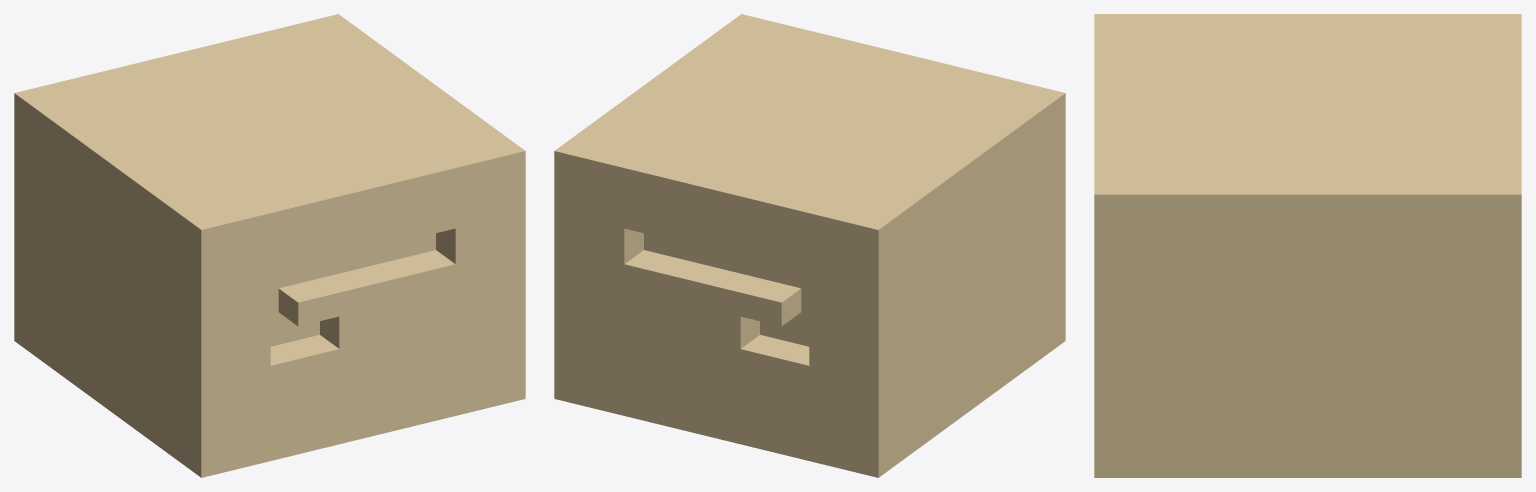
Rendered from GPE_SnakeBodyMotifCorner.fbx.
3 views of the same model, side by side, from view 1: azimuth 30°, elevation 25°; view 2: azimuth 150°, elevation 25°; view 3: azimuth 270°, elevation 25° (orthographic). The views are drawn at different scales.
Visible parts, largest first — view 1: Cube.249; view 2: Cube.249; view 3: Cube.249.
Part boxes in pixels (x1=…): Cube.249: x1=14, y1=14, x2=525, y2=477; Cube.249: x1=554, y1=14, x2=1065, y2=477; Cube.249: x1=1094, y1=14, x2=1521, y2=477.
Size of the model in its own units: 378 by 276 by 378.
